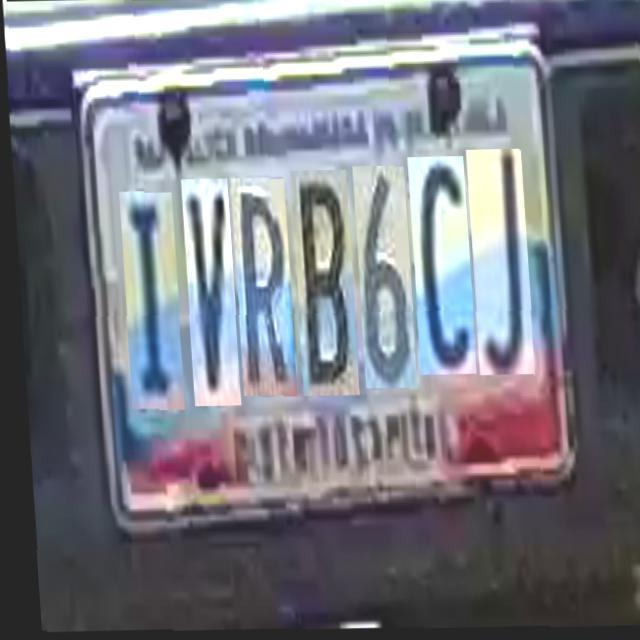6: (349, 164, 412, 387)
B: (286, 168, 354, 394)
C: (404, 154, 471, 372)
I: (116, 192, 180, 410)
J: (462, 146, 530, 372)
R: (227, 177, 291, 395)
V: (178, 178, 235, 406)
